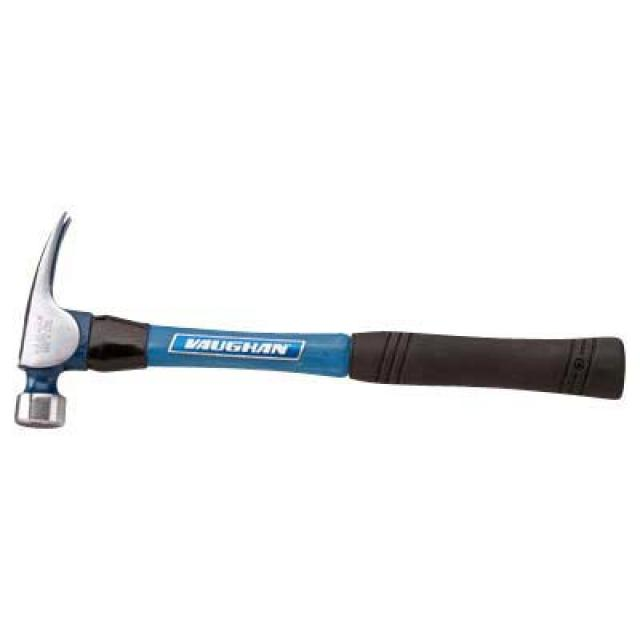hammer: (0, 190, 640, 506)
